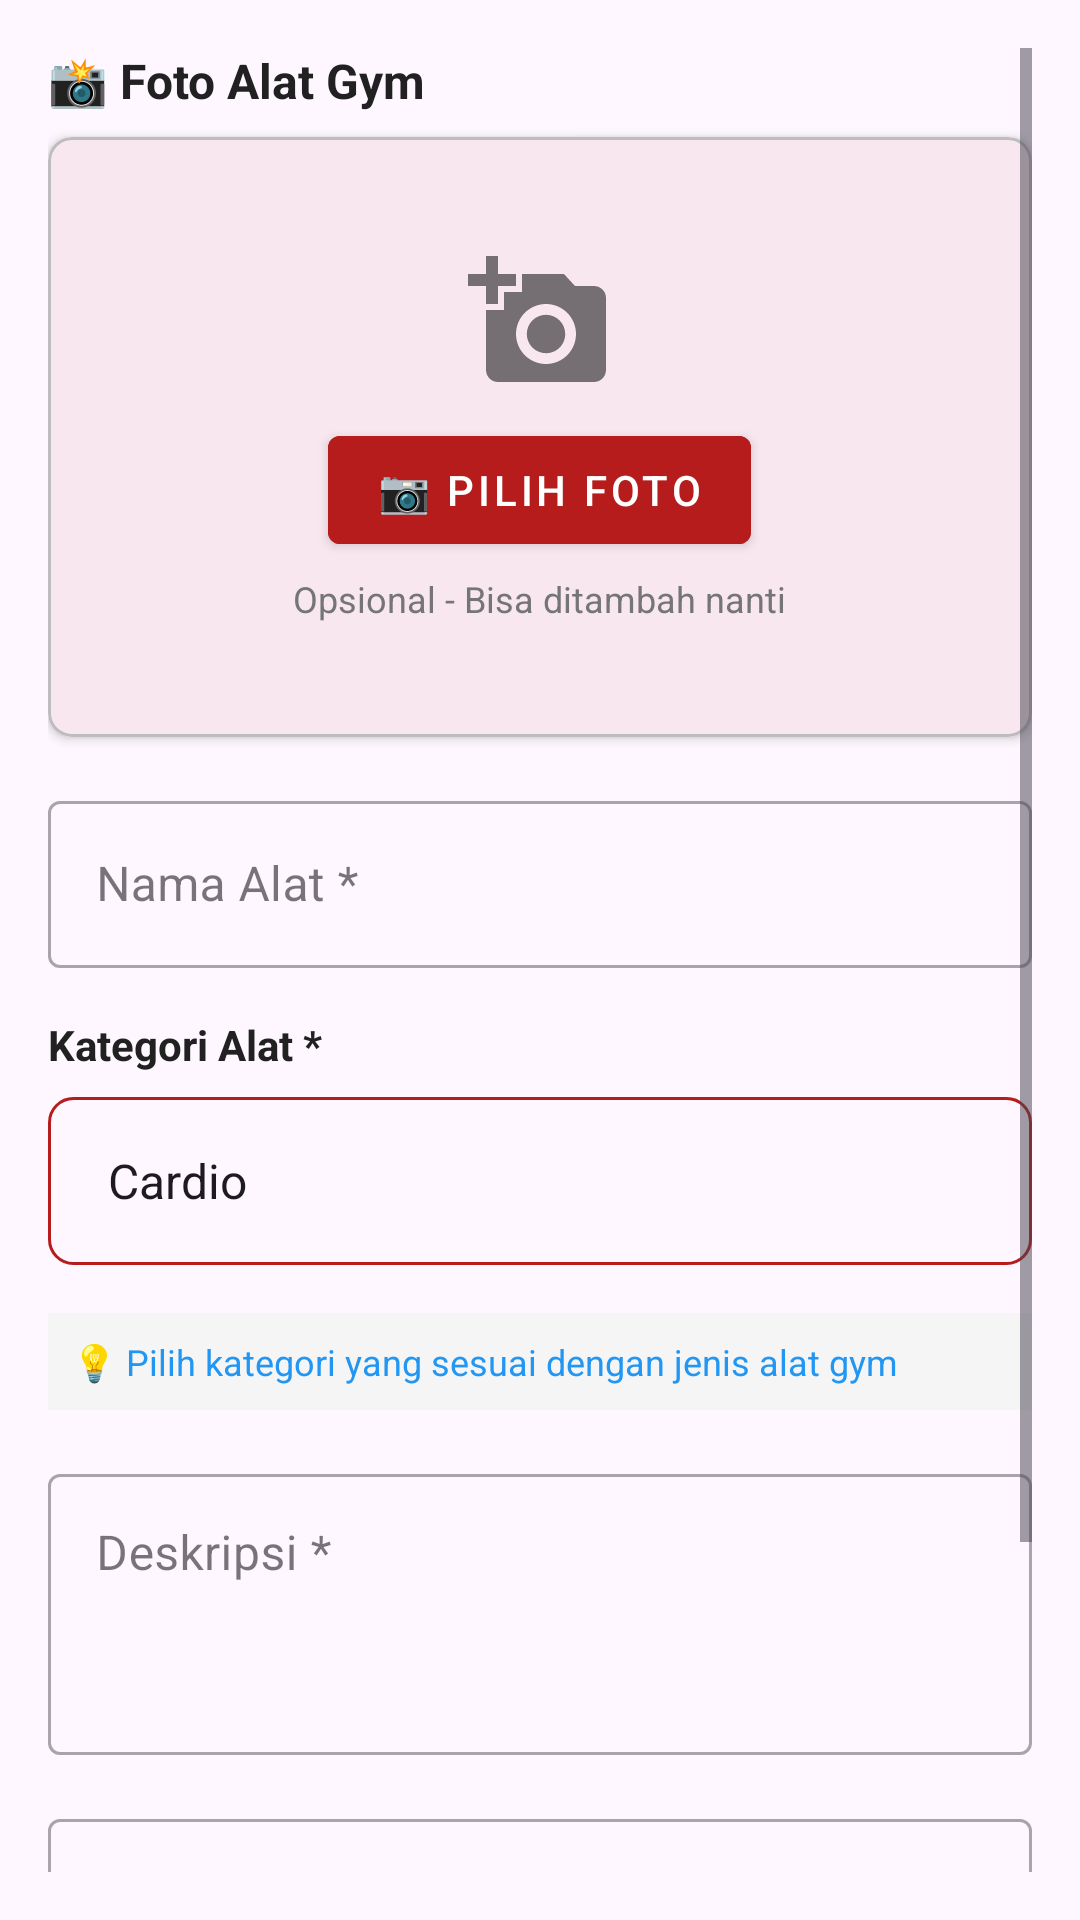

Where to tap for icons on this 1080w x 1920h app screen, as point (x, y):
add photo: point (537, 319)
